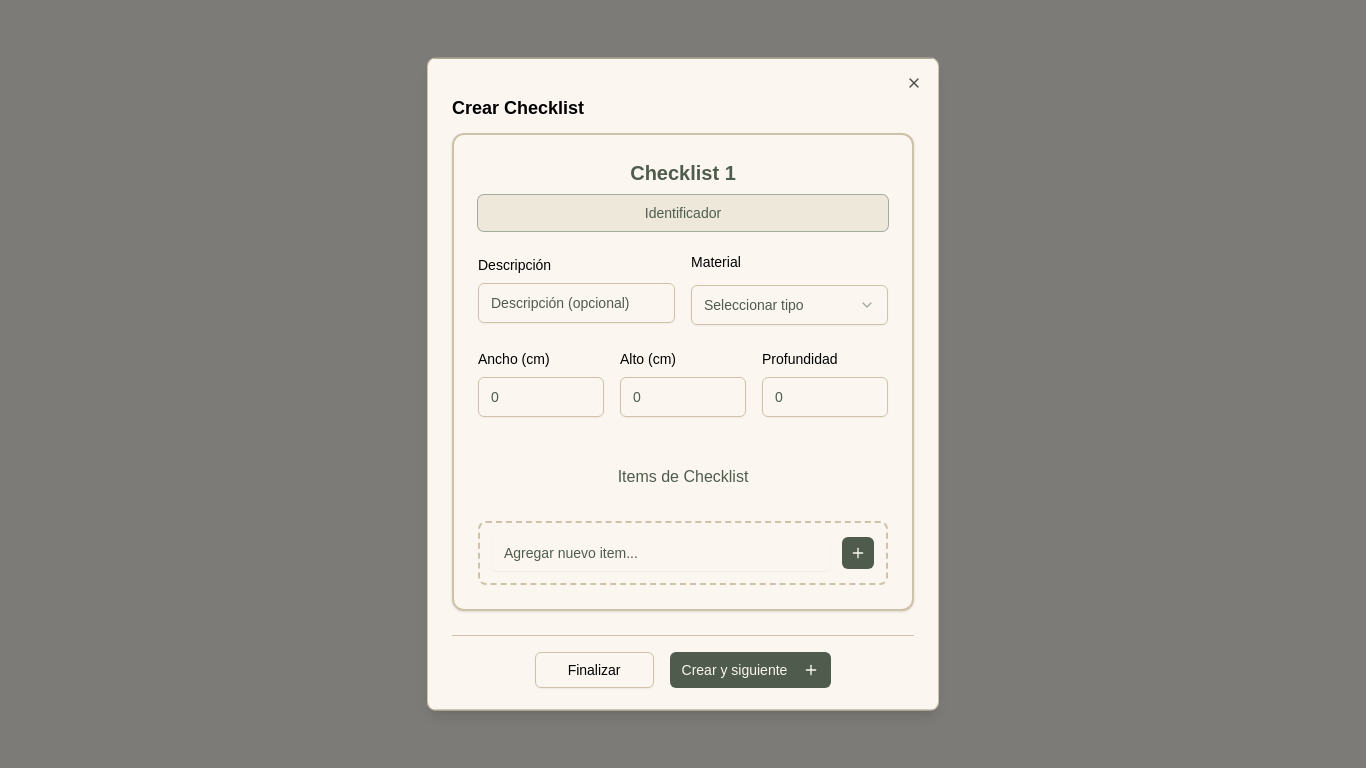
ChecklistModal › displays error message on failure
The width and height of the screenshot is (1366, 768).
Click the button "Crear y siguiente".
click(750, 670)  # box [670,652,831,688]
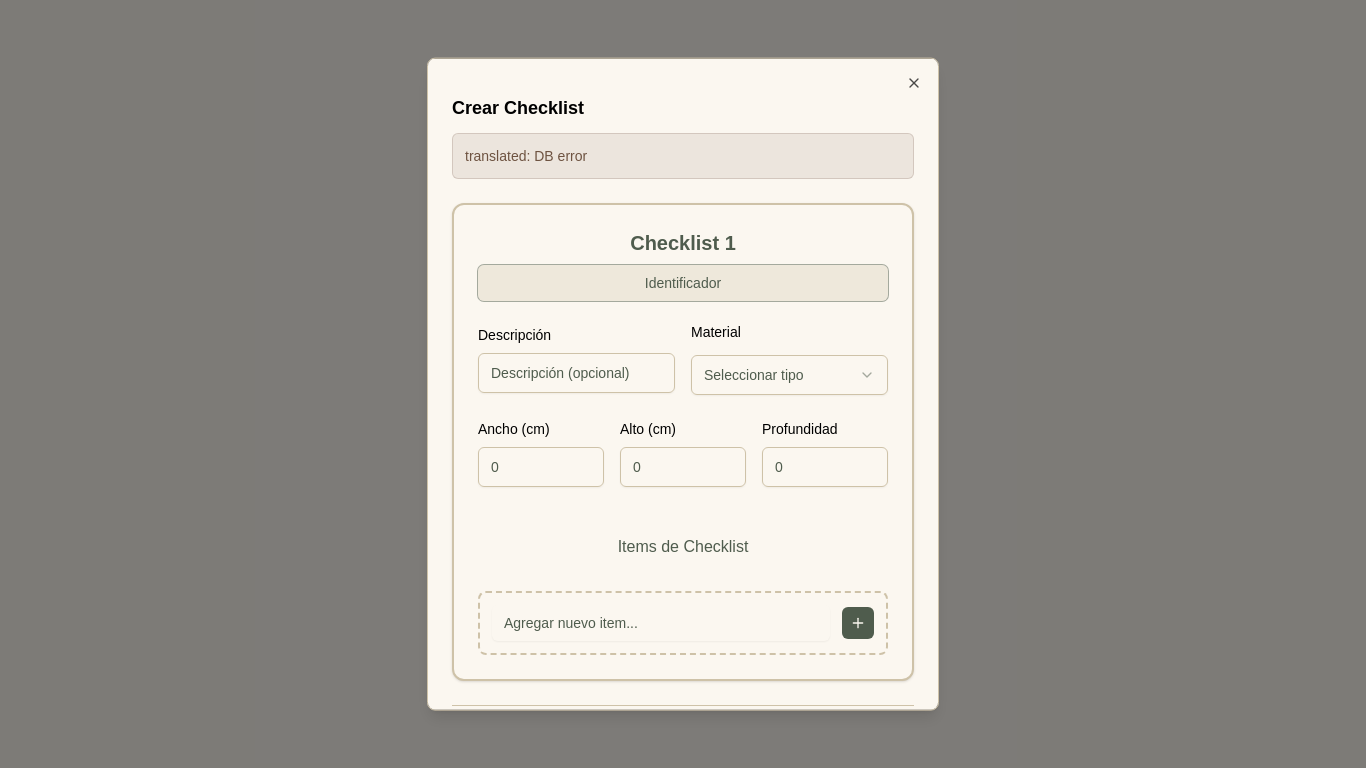
Now the text "translated: DB error" is shown, box [465,148,587,164]
